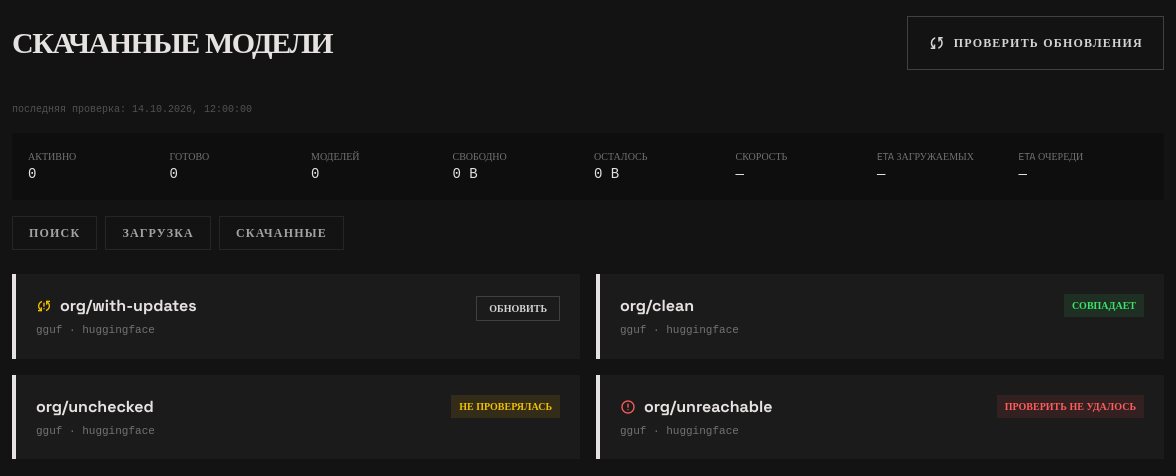
Test: DownloadedModelsPage — кнопка «Обновить» на плитке › кнопка недоступна, пока обновление ставится в очередь
The image size is (1176, 476).
Click the button with test id "update-model-1" at (518, 308), box [476,296,560,321]
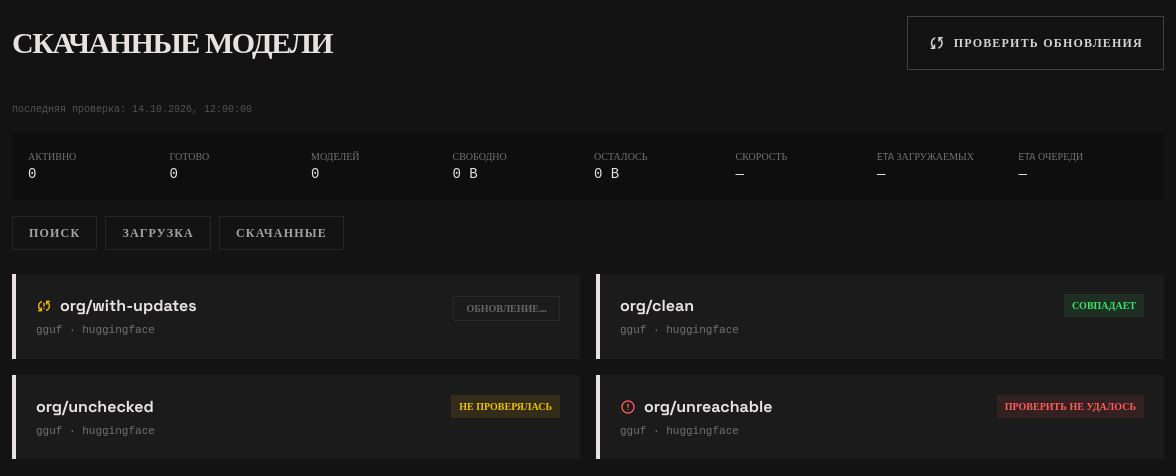
Expected: the button with test id "update-model-1" is disabled, [453,296,560,321]
Expected: the button with test id "update-model-1" reads "Обновление…", [453,296,560,321]
